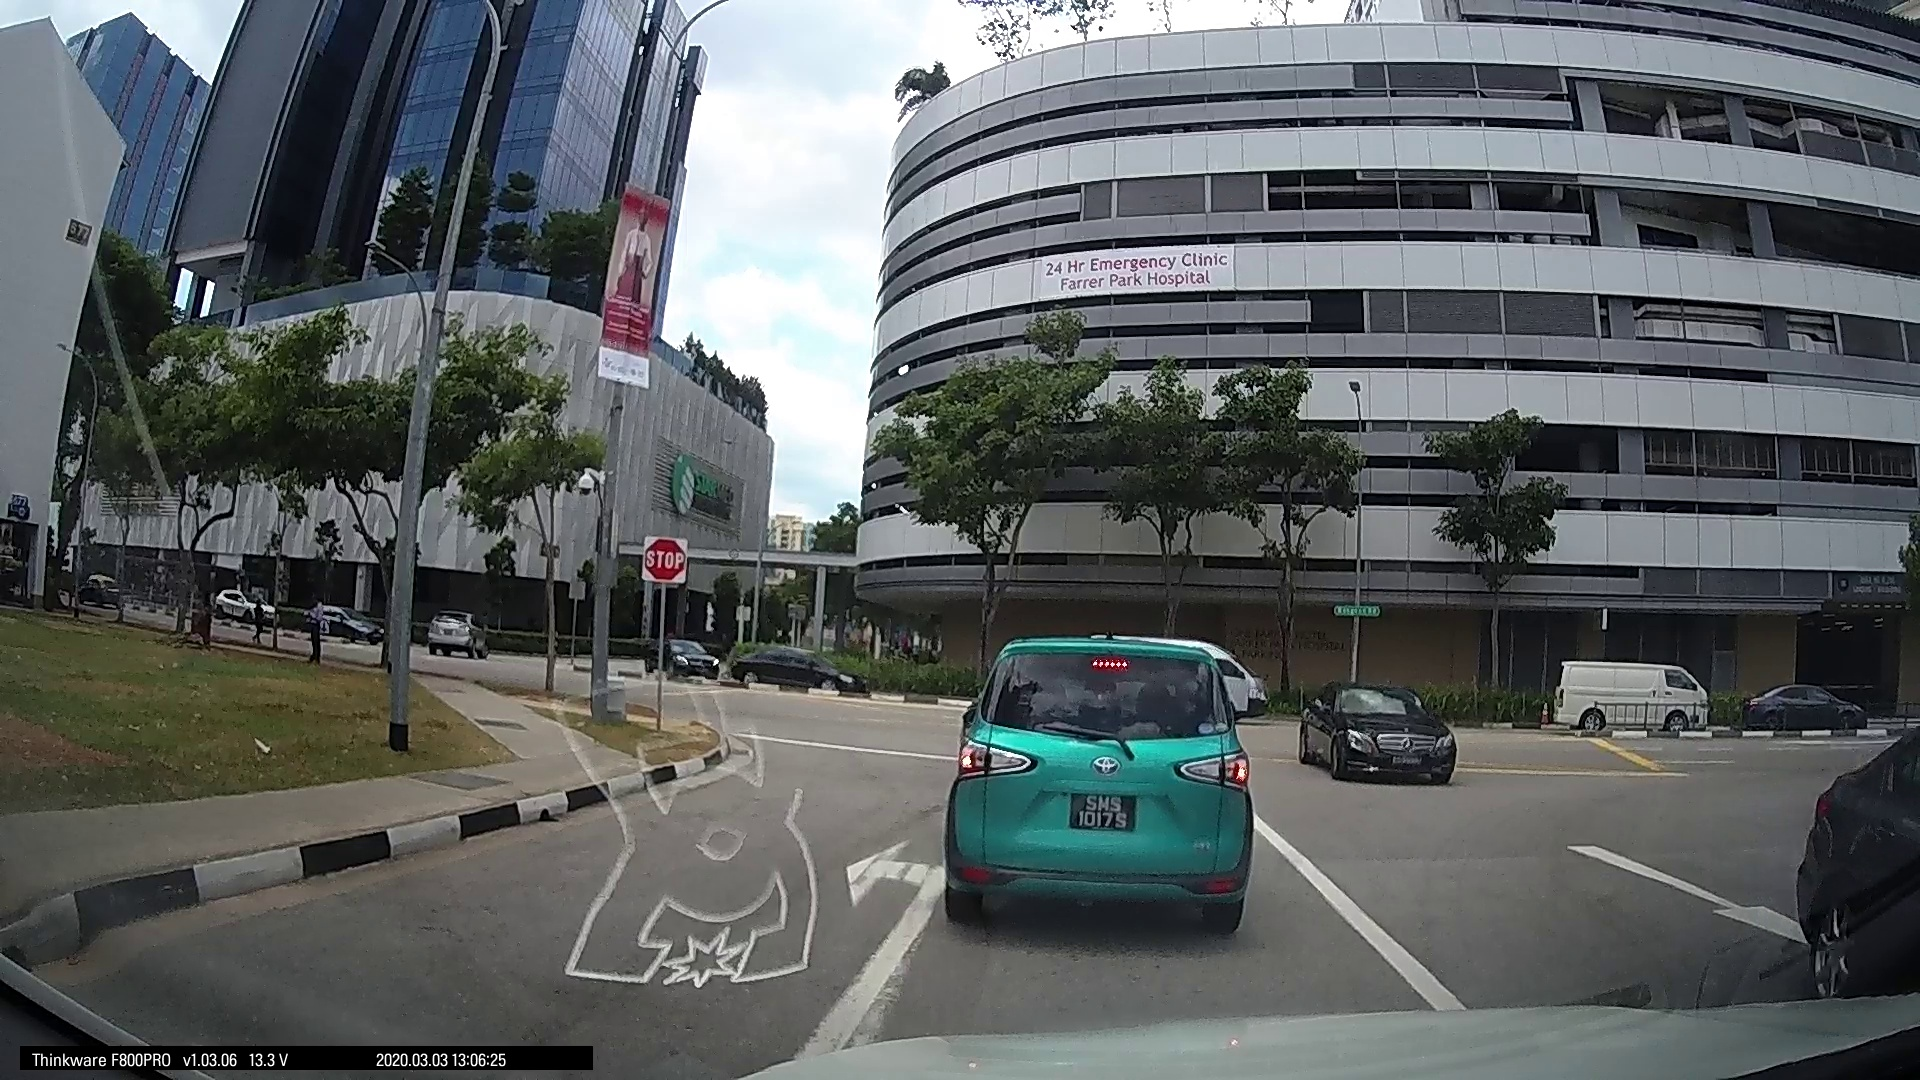Light Vehicle: (931, 615, 1261, 935), (1780, 716, 1919, 994), (1298, 676, 1457, 785), (1549, 653, 1706, 736), (1741, 679, 1865, 736), (721, 642, 855, 692), (419, 604, 484, 659), (649, 636, 720, 678)
